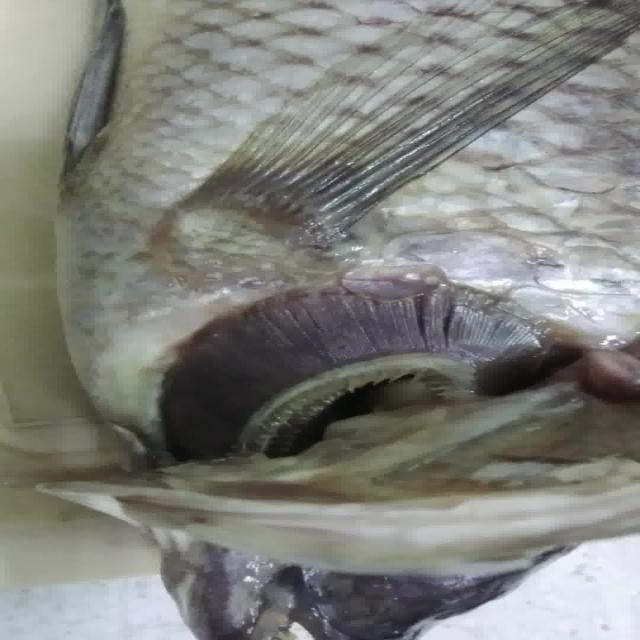Non-Fresh: (123, 269, 586, 454)
